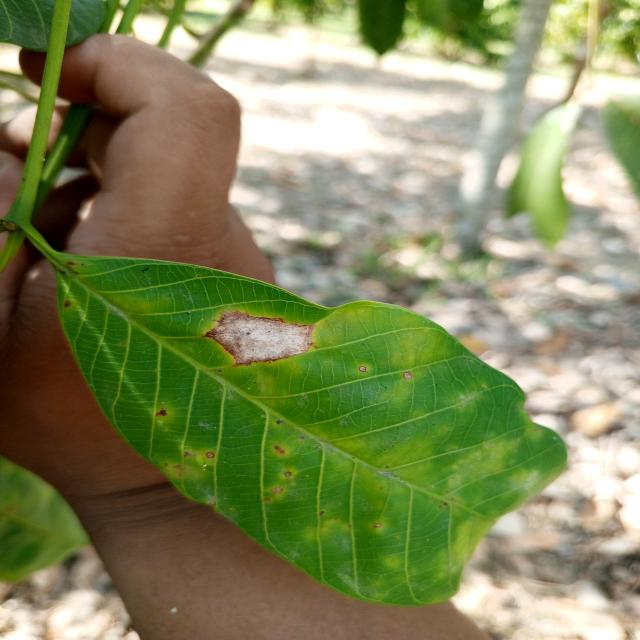Colletotrichum: (206, 451, 215, 459), (271, 487, 282, 493), (403, 372, 412, 379), (359, 366, 367, 372), (373, 522, 381, 528), (284, 472, 292, 477)
Leaf-Blight: (205, 310, 315, 366)
